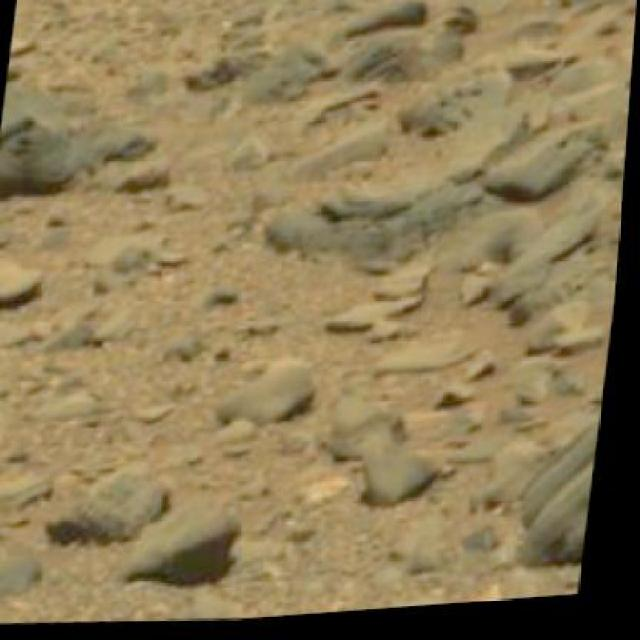rock: (521, 414, 604, 588), (0, 70, 111, 196), (130, 498, 255, 584)
